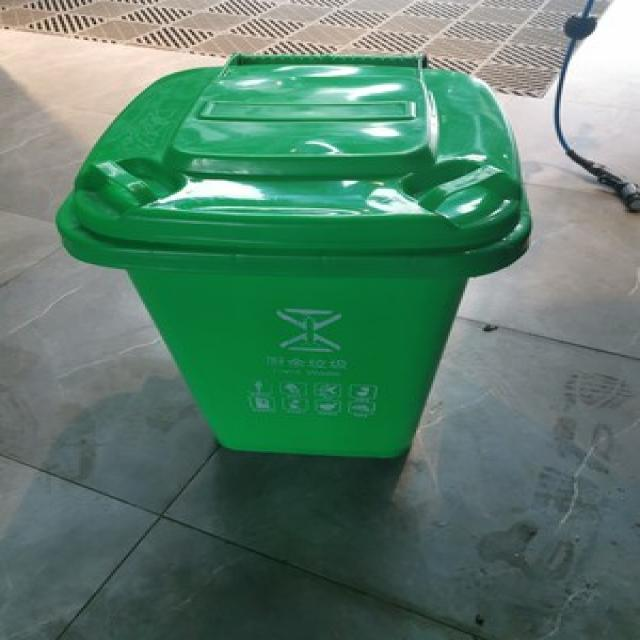ash bin: (54, 45, 532, 461)
